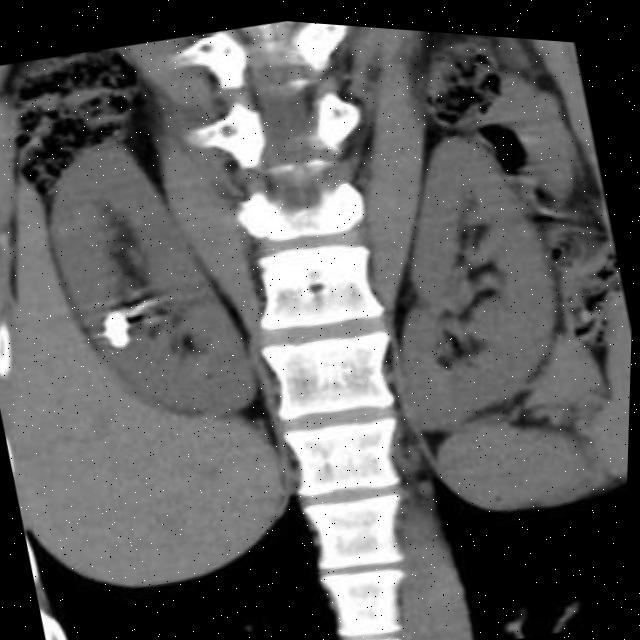Tas_Var: (102, 298, 138, 352)
